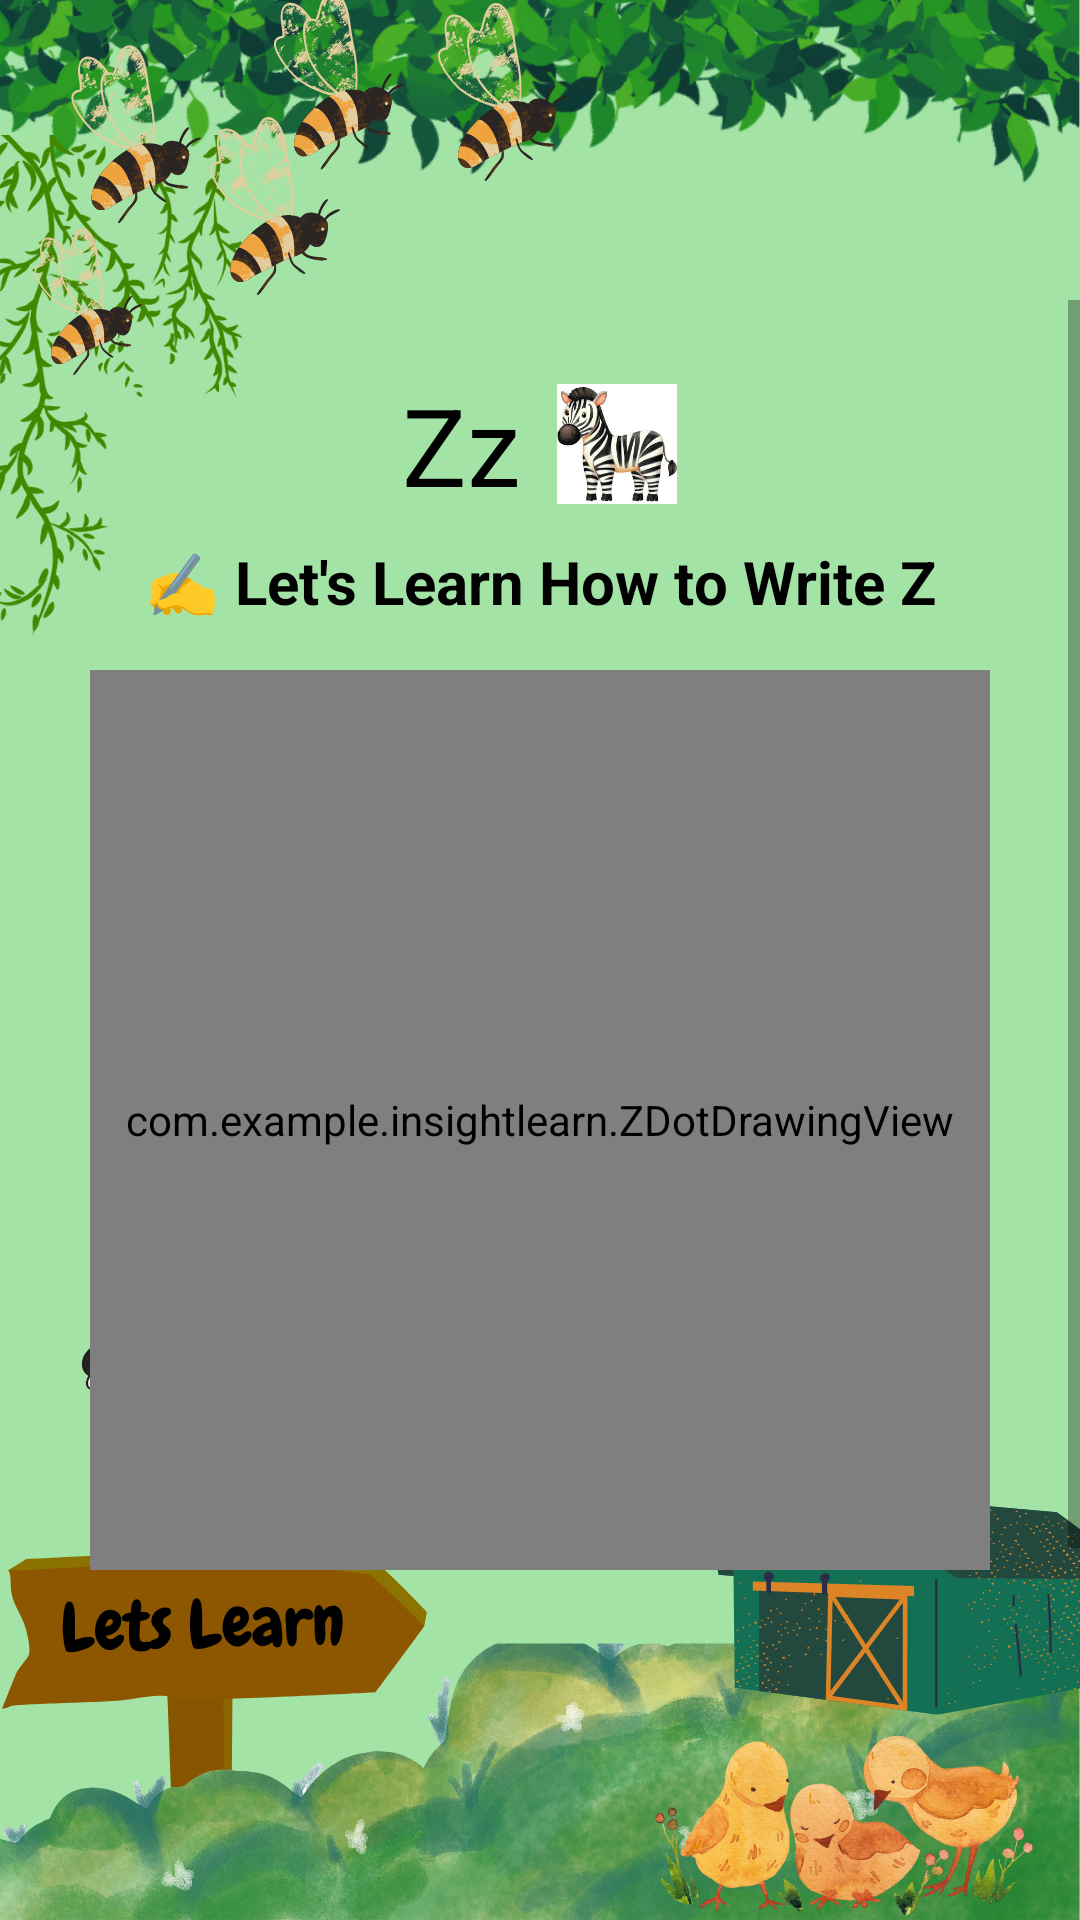

Where to tap for icons on this 1080 × 1920 app screen, as (x,y):
Zebra: (617,444)
